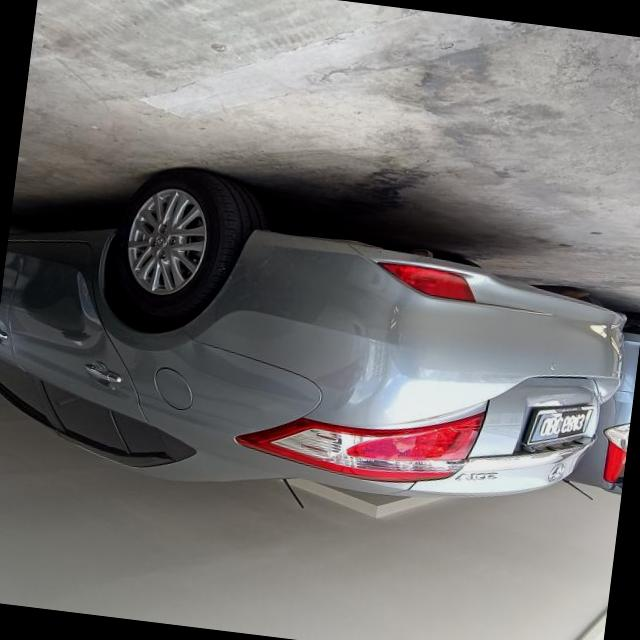ToyotaVios: (0, 146, 640, 538)
